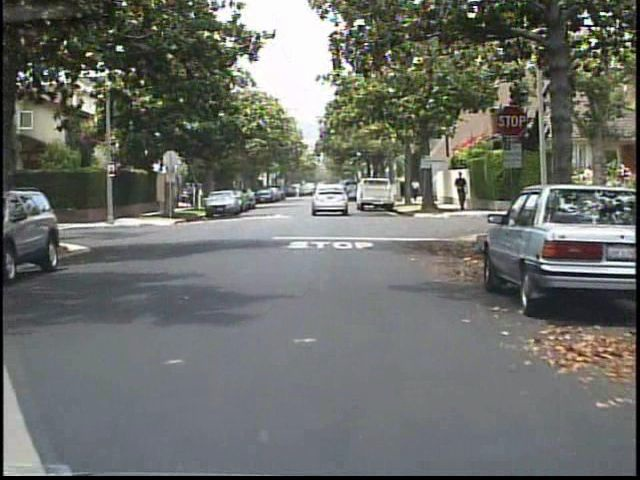person: (452, 169, 474, 216), (411, 176, 423, 204)
